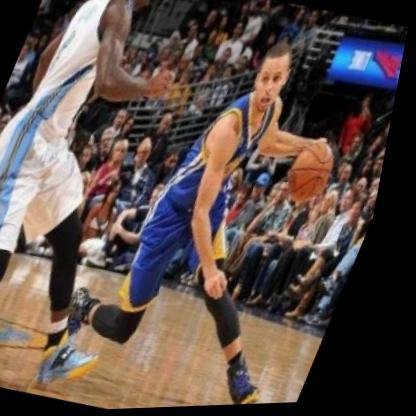basketball: (282, 139, 351, 211)
